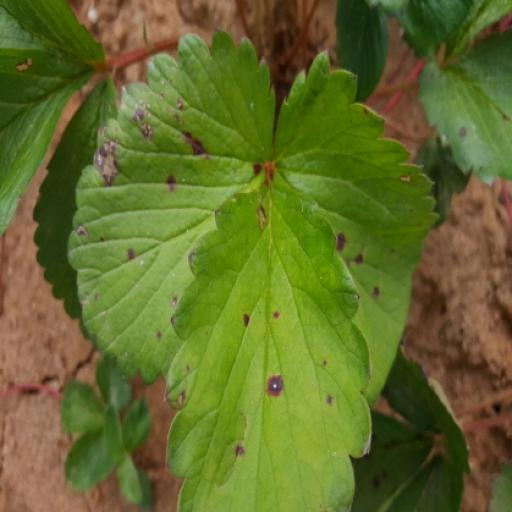Leaf Spot: (66, 25, 277, 388), (161, 163, 372, 511), (271, 50, 441, 407), (418, 29, 511, 186)
